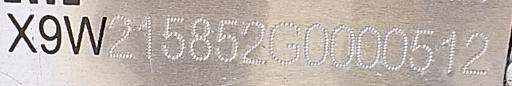letter: (61, 13, 107, 58), (459, 28, 495, 75), (267, 19, 301, 65), (6, 9, 38, 55), (301, 19, 329, 67), (213, 15, 239, 65), (242, 16, 268, 66), (160, 13, 186, 62), (106, 13, 134, 58), (408, 26, 436, 71), (354, 25, 382, 68), (188, 14, 212, 64), (382, 25, 408, 71), (330, 22, 354, 68), (38, 12, 62, 54), (438, 28, 458, 73), (136, 14, 156, 58)
